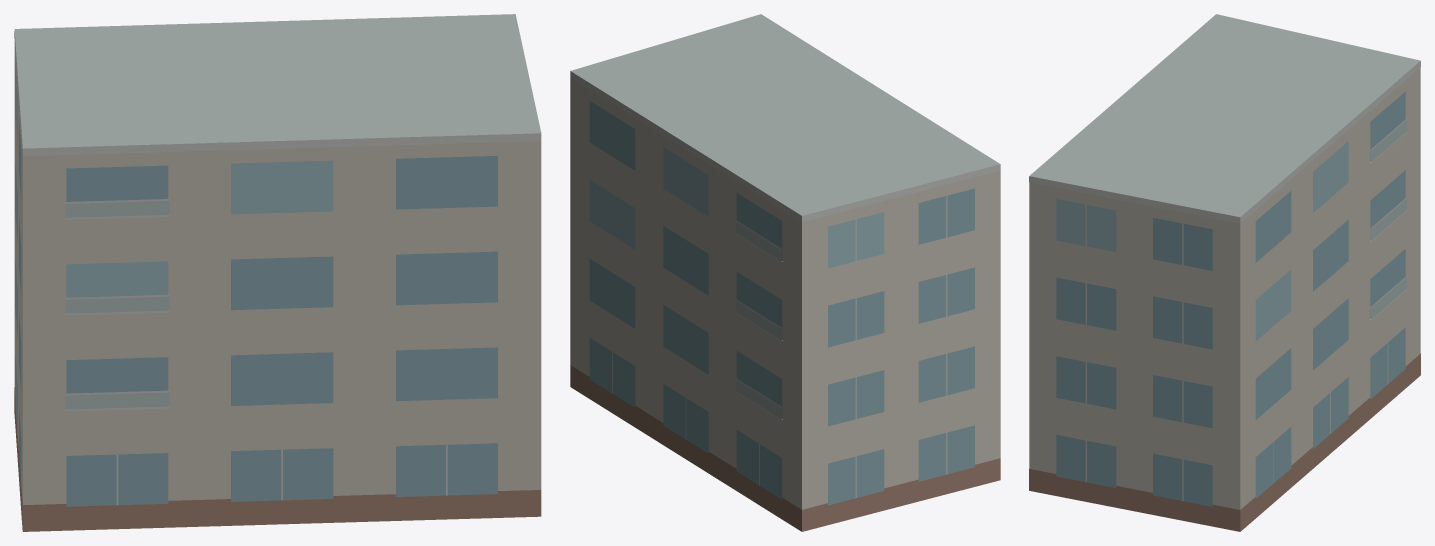
The model's file is survey-upis-32893103.glb.
3 renders of one model, left to right at view 1: azimuth 30°, elevation 25°; view 2: azimuth 150°, elevation 25°; view 3: azimuth 270°, elevation 25°, orthographic. The views are drawn at different scales.
Visible parts, largest first — view 1: survey-upis-32893103.tmp; view 2: survey-upis-32893103.tmp; view 3: survey-upis-32893103.tmp.
Part boxes in pixels (x1,y1,x2,y2): survey-upis-32893103.tmp: [14, 14, 541, 531]; survey-upis-32893103.tmp: [570, 14, 1000, 531]; survey-upis-32893103.tmp: [1029, 14, 1420, 531].
Bounding box in the file's own units: 16.91 × 12.2 × 13.77.
